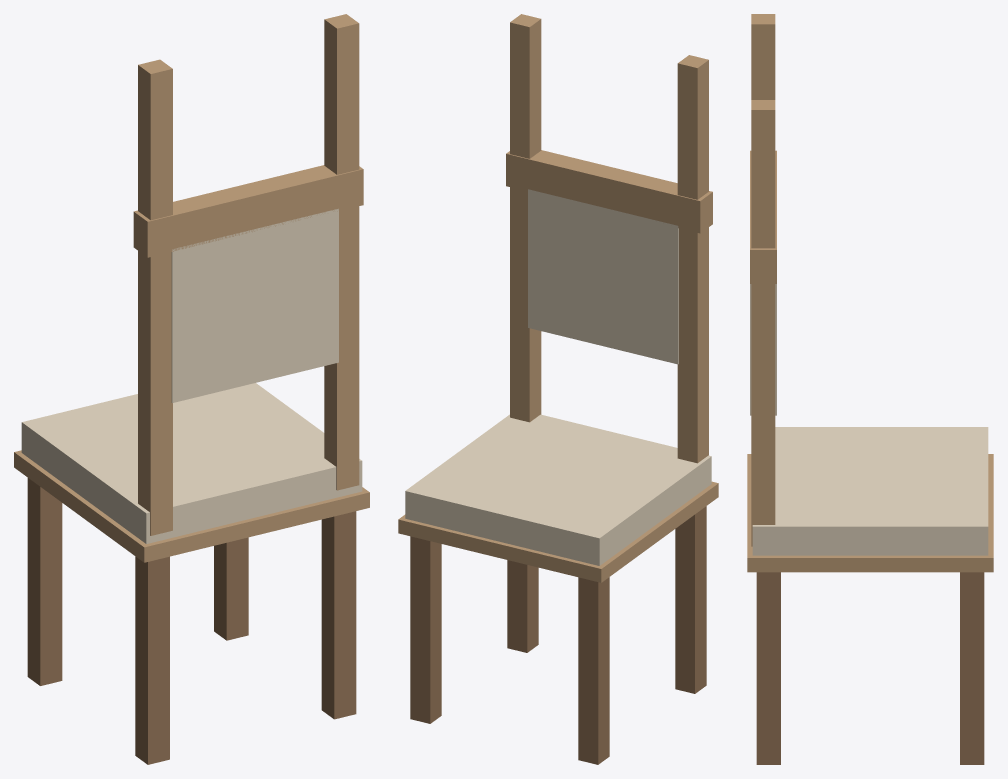
File: dining_chair.glb
3 renders of one model, left to right at view 1: azimuth 30°, elevation 25°; view 2: azimuth 150°, elevation 25°; view 3: azimuth 270°, elevation 25°, orthographic. The views are drawn at different scales.
Parts seen in each view (by area): view 1: dining_chair; view 2: dining_chair; view 3: dining_chair.
Boxes of the visible parts, x1,y1,x2,y2 form: dining_chair: (14,14,369,764); dining_chair: (398,14,718,764); dining_chair: (747,14,993,764).
Size of the model in its own units: 0.46 by 1.35 by 0.46.
